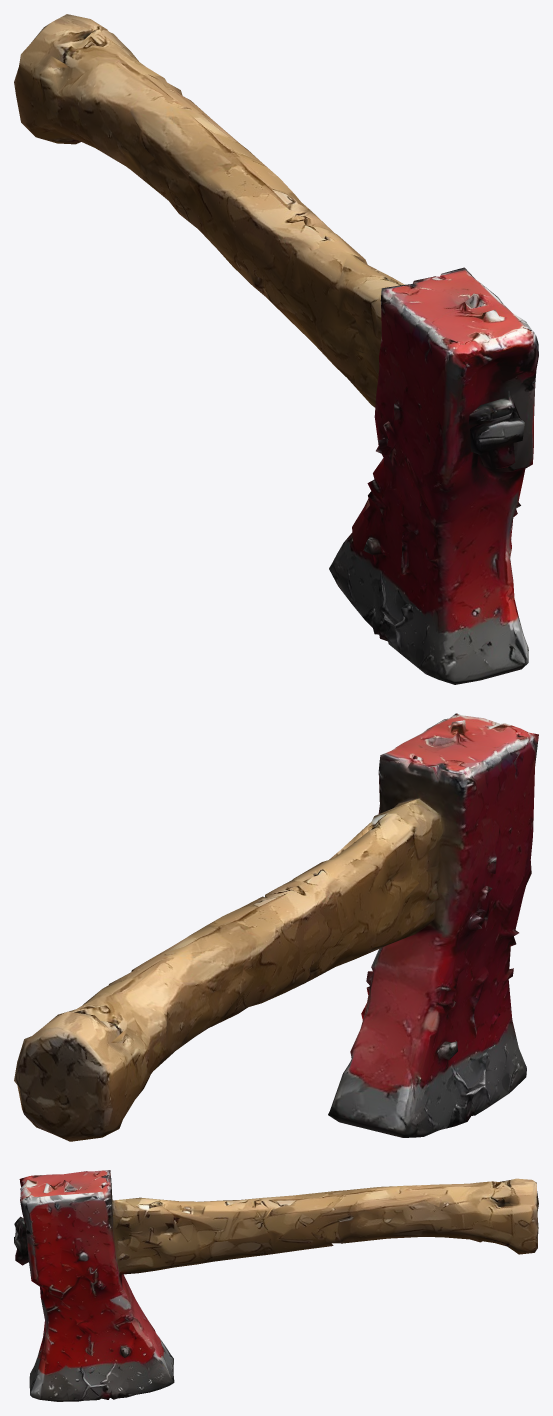
Rendered from w_fireaxe.glb.
3 renders of one model, top to bottom at view 1: azimuth 30°, elevation 25°; view 2: azimuth 150°, elevation 25°; view 3: azimuth 270°, elevation 25°, orthographic. The views are drawn at different scales.
Visible parts, largest first — view 1: tripo_node_52e9e77d-085a-47a7-b058-dd7cca024497; view 2: tripo_node_52e9e77d-085a-47a7-b058-dd7cca024497; view 3: tripo_node_52e9e77d-085a-47a7-b058-dd7cca024497.
Part boxes in pixels (left/top/right/bottom): tripo_node_52e9e77d-085a-47a7-b058-dd7cca024497: left=14, top=14, right=538, bottom=684; tripo_node_52e9e77d-085a-47a7-b058-dd7cca024497: left=14, top=713, right=538, bottom=1141; tripo_node_52e9e77d-085a-47a7-b058-dd7cca024497: left=14, top=1170, right=538, bottom=1401.
Bounding box in the file's own units: 0.1419 × 0.4421 × 1.
Materials: 1 (1 with a texture image).
